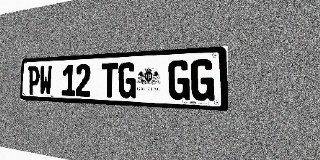1: (62, 64, 76, 96)
2: (76, 64, 91, 97)
G: (191, 59, 214, 101), (168, 60, 190, 100), (118, 62, 136, 98)
P: (28, 66, 40, 95)
T: (101, 63, 118, 98)
W: (39, 65, 52, 95)
